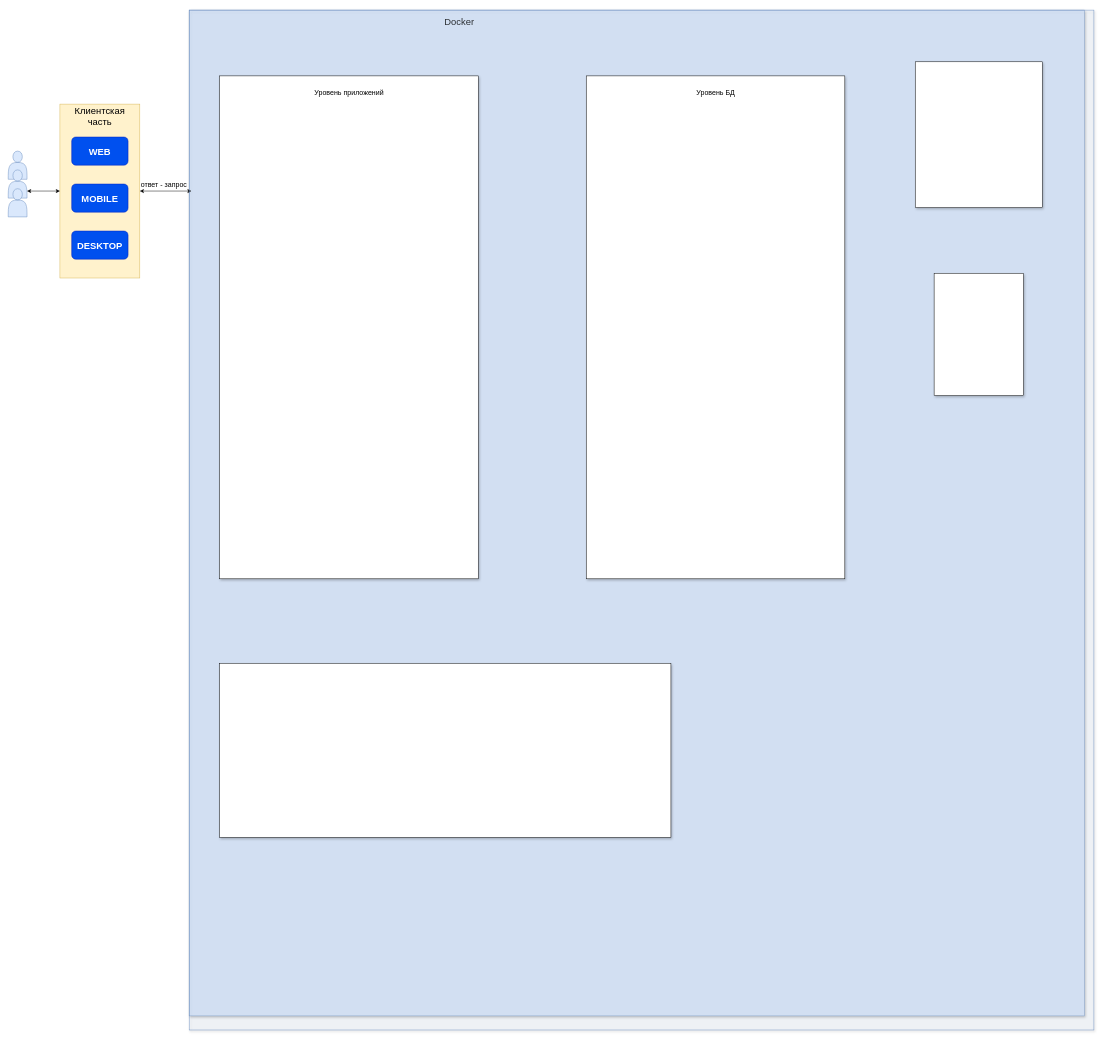
This 1105x1042 diagram has some shape labels left out. The shapes that lost their labels are listed below. From the top down, each one's centre as x and y in pixels, then its label:
At (979,135): "Управления конфигурациями".
At (445,751): "Уровень SCADA".
